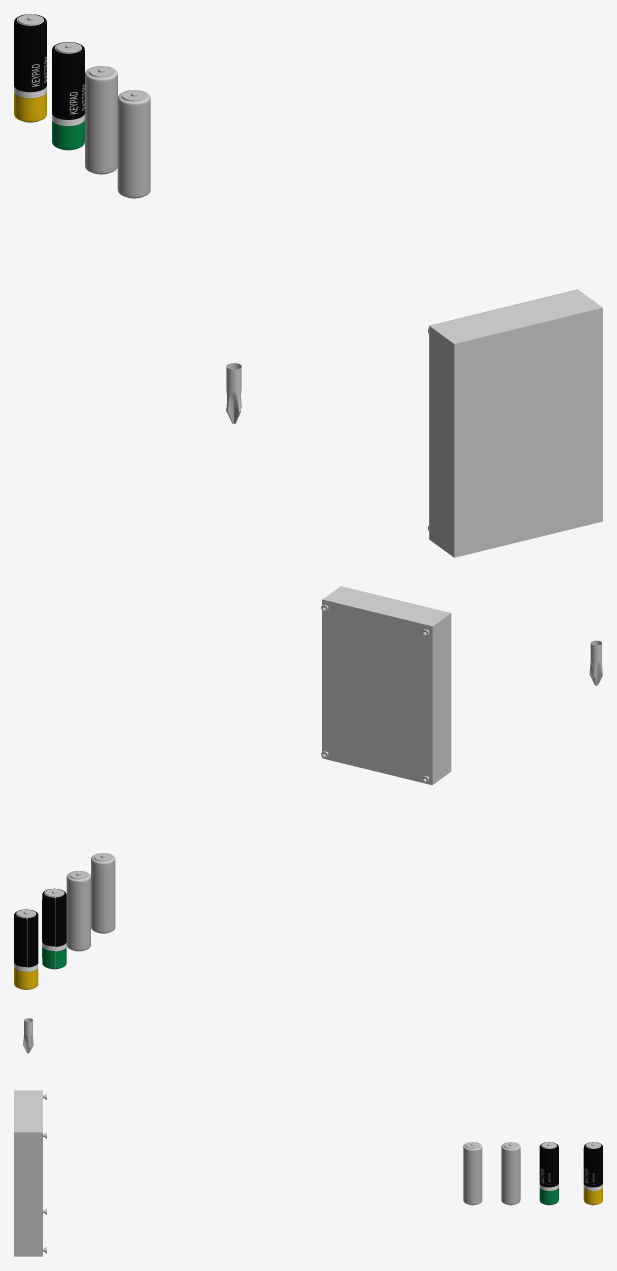
Rendered from keypadblend.fbx.
3 views of the same model, one above another, from view 1: azimuth 30°, elevation 25°; view 2: azimuth 150°, elevation 25°; view 3: azimuth 270°, elevation 25° (orthographic). The views are drawn at different scales.
Visible parts, largest first — view 1: KeyPadBack, Battery, Battery_04, Battery_02, Battery_03, Screwdriver; view 2: KeyPadBack_Panel, KeyPadBack, Battery_03, Battery_04, Battery, Battery_02; view 3: KeyPadBack, Battery_02, Battery, Battery_03, Battery_04.
Part boxes in pixels (box(x1,y1,x2,y2)): KeyPadBack: box(429, 289, 602, 557); Battery: box(117, 90, 150, 198); Battery_04: box(14, 14, 46, 122); Battery_02: box(85, 66, 117, 174); Battery_03: box(52, 42, 84, 150); Screwdriver: box(226, 363, 241, 423); KeyPadBack_Panel: box(322, 599, 432, 785); KeyPadBack: box(322, 586, 451, 784); Battery_03: box(42, 888, 66, 969); Battery_04: box(14, 909, 38, 989); Battery: box(91, 853, 115, 933); Battery_02: box(66, 871, 90, 951); KeyPadBack: box(14, 1090, 42, 1256); Battery_02: box(501, 1142, 520, 1205); Battery: box(463, 1142, 482, 1205); Battery_03: box(539, 1142, 558, 1205); Battery_04: box(583, 1142, 602, 1205).
Bounding box in the file's own units: 5348 × 3268 × 12868.
